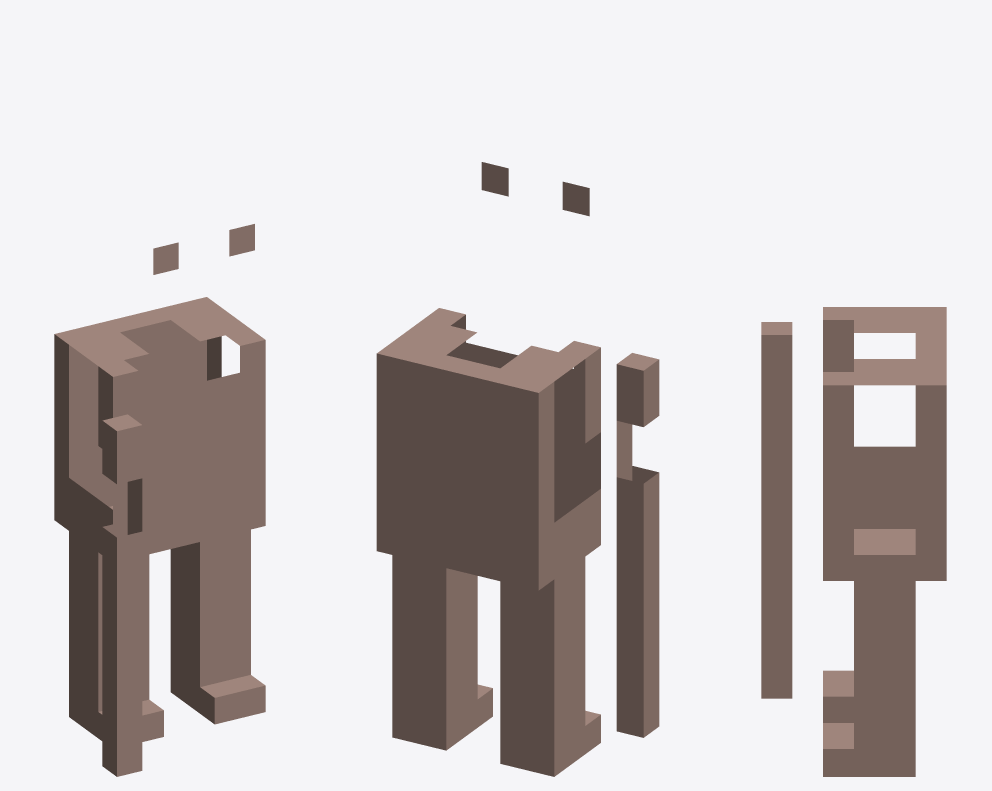
The model's file is Character-0.obj.
3 renders of one model, left to right at view 1: azimuth 30°, elevation 25°; view 2: azimuth 150°, elevation 25°; view 3: azimuth 270°, elevation 25°, orthographic. The views are drawn at different scales.
Bounding box in the file's own units: 1 × 2.4 × 0.8.
1 material, 1 textured.
